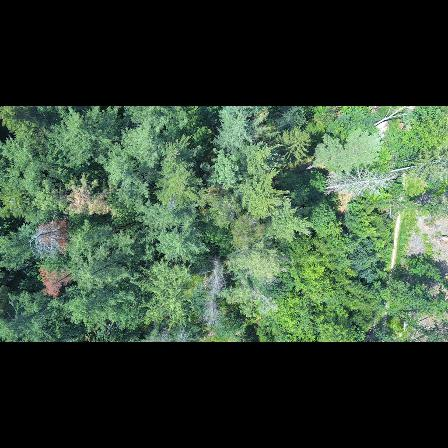Dead: (318, 167, 390, 200), (199, 255, 229, 332), (26, 211, 70, 263)
